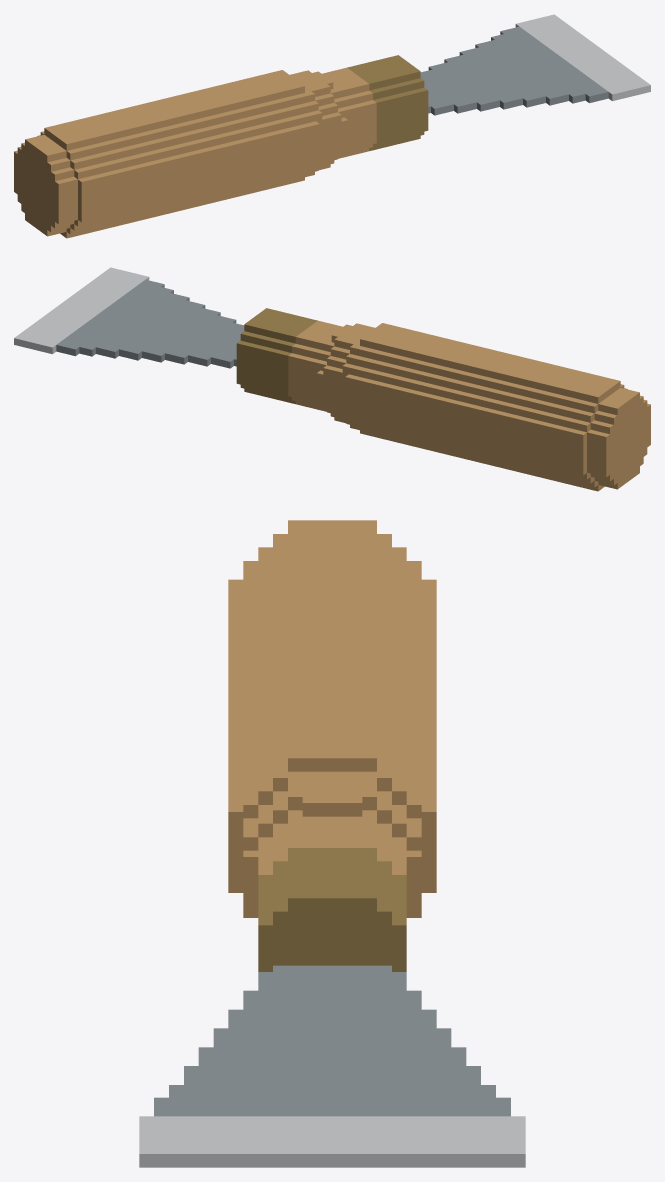
File: chipper.glb
3 renders of one model, top to bottom at view 1: azimuth 30°, elevation 25°; view 2: azimuth 150°, elevation 25°; view 3: azimuth 270°, elevation 25°, orthographic. The views are drawn at different scales.
Parts seen in each view (by area): view 1: chipper:compound; view 2: chipper:compound; view 3: chipper:compound.
Boxes of the visible parts, x1,y1,x2,y2 form: chipper:compound: (14,14,650,238); chipper:compound: (14,267,650,491); chipper:compound: (139,520,525,1167).
Size of the model in its own units: 0.176 by 0.028 by 0.052.
